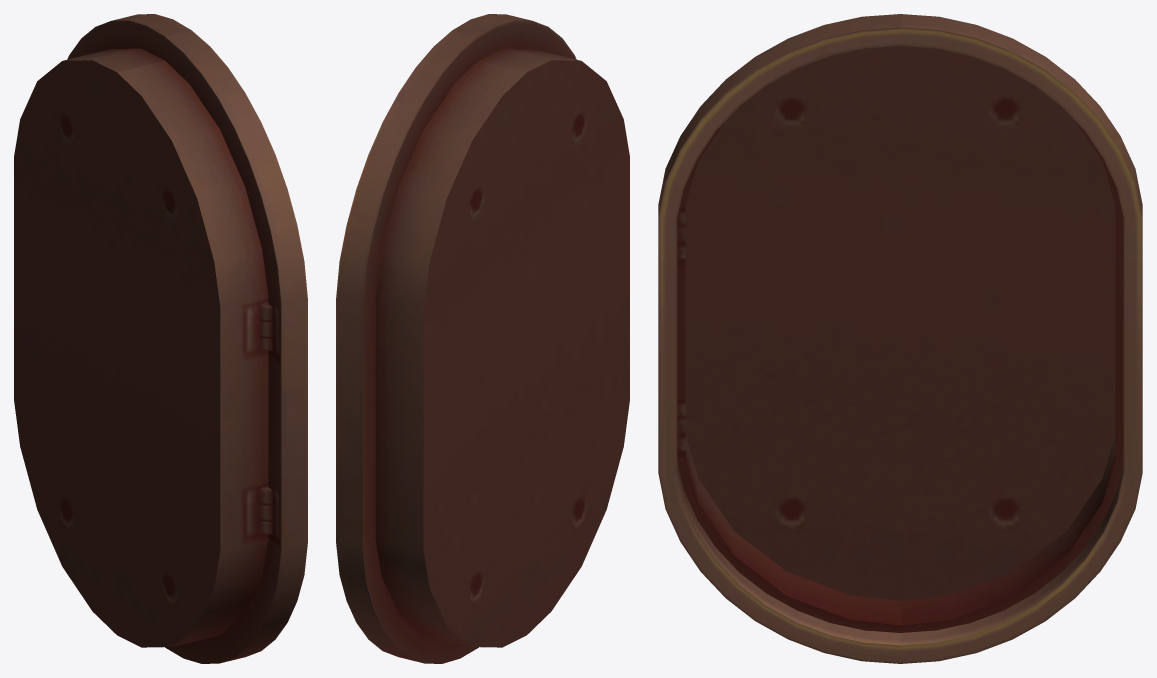
Rendered from MiracleMirror.fbx.
3 views of the same model, side by side, from view 1: azimuth 30°, elevation 25°; view 2: azimuth 150°, elevation 25°; view 3: azimuth 270°, elevation 25° (orthographic). The views are drawn at different scales.
Parts seen in each view (by area): view 1: TinytLiving_MiracleMirror; view 2: TinytLiving_MiracleMirror; view 3: TinytLiving_MiracleMirror.
Boxes of the visible parts, x1,y1,x2,y2 form: TinytLiving_MiracleMirror: (14,14,307,663); TinytLiving_MiracleMirror: (336,14,629,663); TinytLiving_MiracleMirror: (658,14,1142,663).
Bounding box in the file's own units: 9.6 × 75.22 × 51.88.
